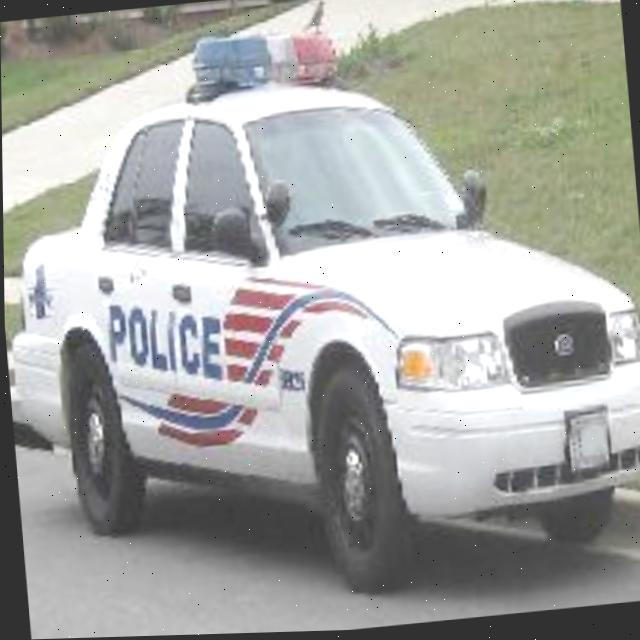emergency: (25, 4, 640, 604)
